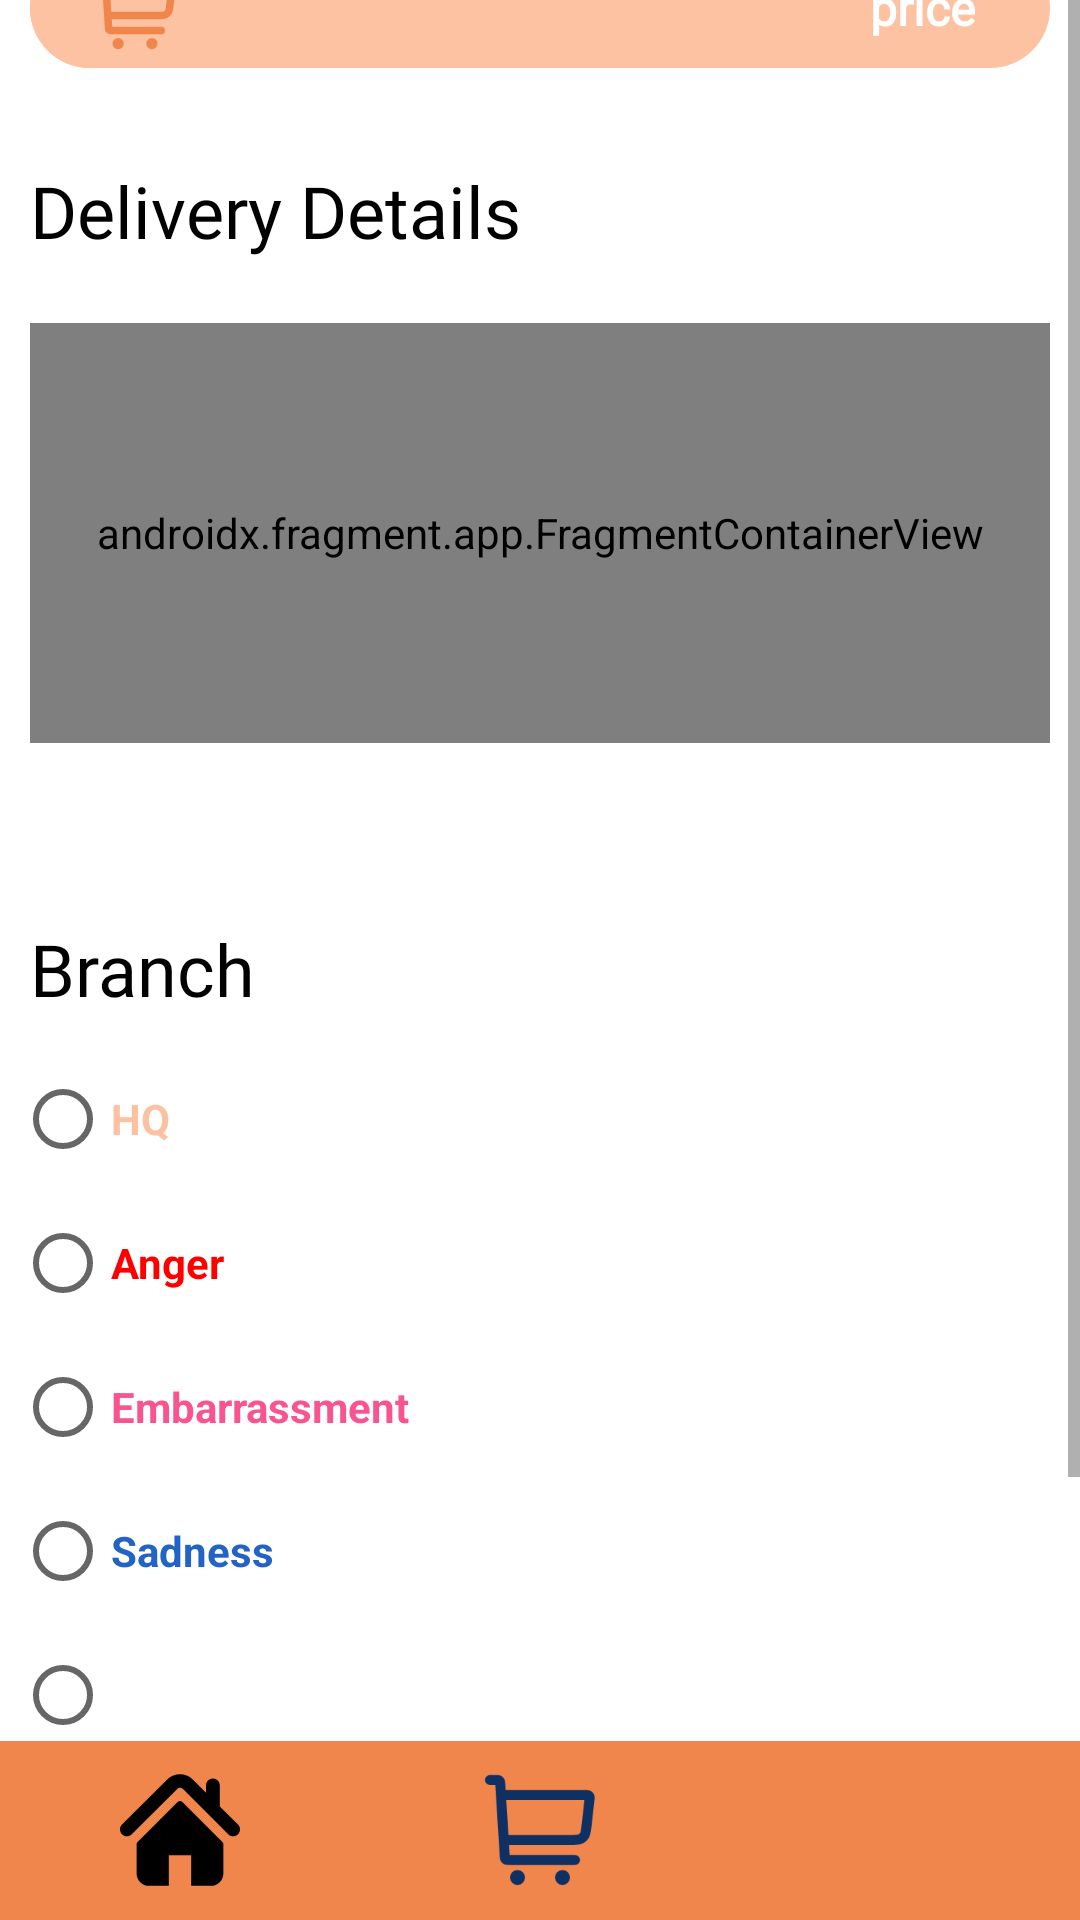

Where icons sit on this 1080*1920 app screen, as (x1, y1, x2, y2):
home: (120, 1774, 240, 1886)
